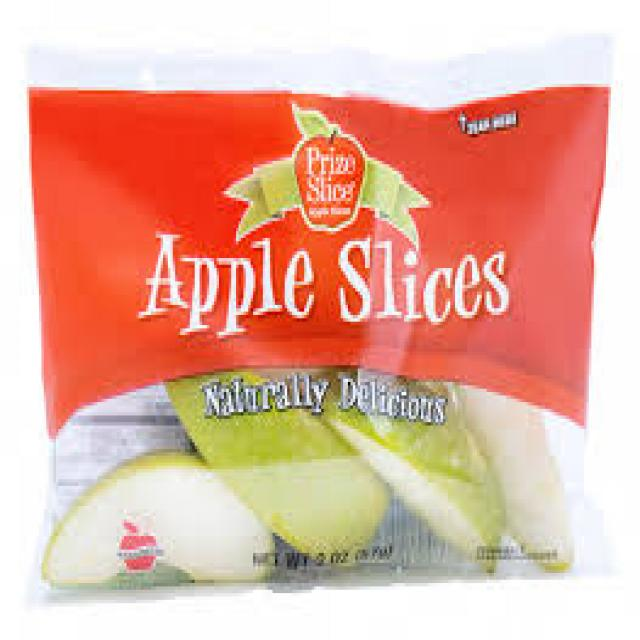Apple: (176, 387, 400, 548), (44, 447, 276, 586), (368, 426, 506, 574), (472, 392, 568, 568)
